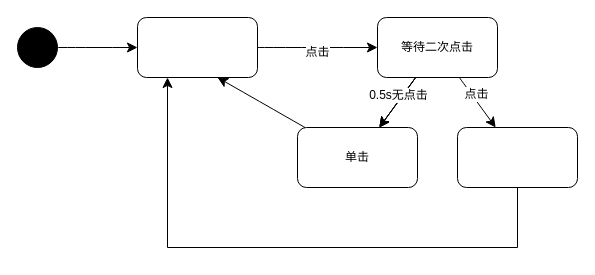
This 595x275 diagram has some shape labels left out. Each missing label, with the box of its shape:
双击: (456, 126, 578, 188)
等待点击: (136, 16, 258, 78)
